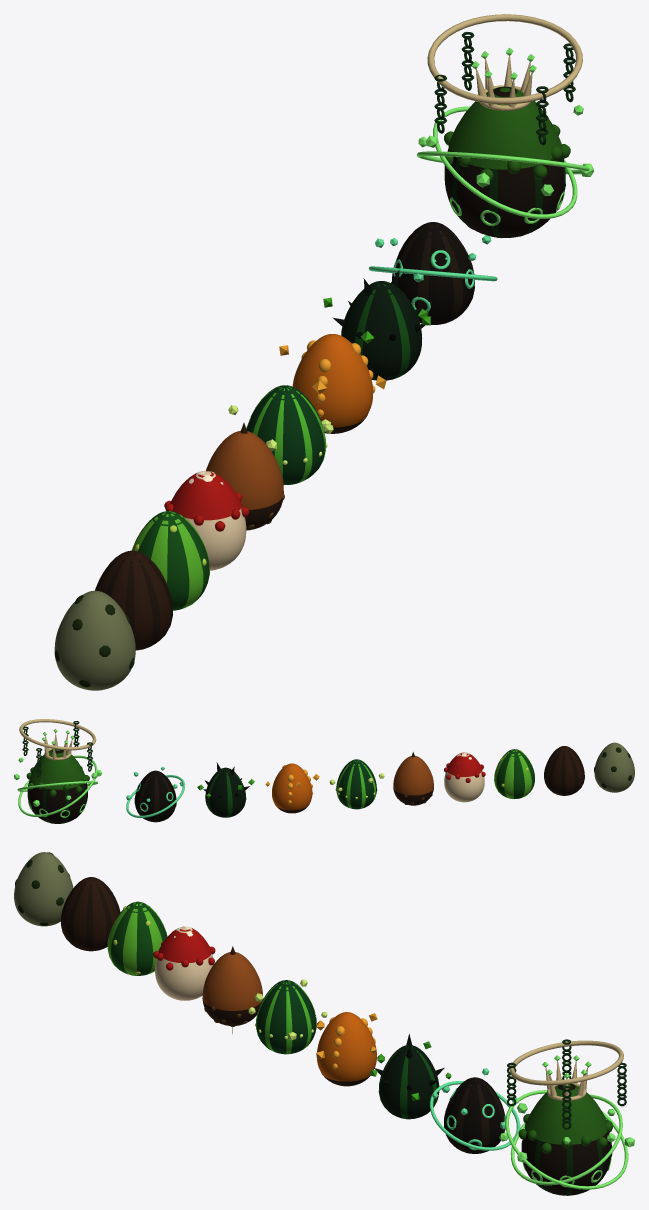
File: eggs_forest_set.obj
3 views of the same model, one above another, from view 1: azimuth 30°, elevation 25°; view 2: azimuth 150°, elevation 25°; view 3: azimuth 270°, elevation 25° (orthographic). The views are drawn at different scales.
Visible parts, largest first — view 1: shell_body, cap, stripe_1, halo_ring, ring_1, ring_2, stripe_7, stripe_8, stripe_6; view 2: shell_body, cap, stripe_5, stripe_4, ring_1, stripe_6, halo_ring, tape, stripe_7, stripe_3, ring_2; view 3: shell_body, cap, stripe_2, stripe_3, ring_1, halo_ring, stripe_4, ring_2, tape, stripe_1.
Boxes of the visible parts, x1=… form: shell_body: x1=54, y1=87, x2=565, y2=690; cap: x1=170, y1=86, x2=561, y2=520; stripe_1: x1=134, y1=165, x2=542, y2=649; halo_ring: x1=427, y1=14, x2=582, y2=104; ring_1: x1=369, y1=151, x2=589, y2=281; ring_2: x1=433, y1=106, x2=577, y2=218; stripe_7: x1=95, y1=158, x2=473, y2=590; stripe_8: x1=105, y1=169, x2=501, y2=596; stripe_6: x1=110, y1=148, x2=448, y2=583; shell_body: x1=27, y1=742, x2=634, y2=823; cap: x1=29, y1=749, x2=482, y2=789; stripe_5: x1=42, y1=748, x2=562, y2=823; stripe_4: x1=28, y1=747, x2=562, y2=819; ring_1: x1=18, y1=755, x2=184, y2=817; stripe_6: x1=62, y1=747, x2=565, y2=823; halo_ring: x1=19, y1=719, x2=96, y2=750; tape: x1=275, y1=787, x2=433, y2=813; stripe_7: x1=76, y1=747, x2=578, y2=818; stripe_3: x1=134, y1=746, x2=562, y2=814; ring_2: x1=17, y1=781, x2=97, y2=791; shell_body: x1=14, y1=852, x2=611, y2=1195; cap: x1=158, y1=926, x2=607, y2=1144; stripe_2: x1=68, y1=879, x2=553, y2=1193; stripe_3: x1=86, y1=879, x2=573, y2=1195; ring_1: x1=429, y1=1081, x2=628, y2=1189; halo_ring: x1=509, y1=1040, x2=623, y2=1085; stripe_4: x1=93, y1=879, x2=602, y2=1189; ring_2: x1=510, y1=1094, x2=622, y2=1185; tape: x1=202, y1=998, x2=370, y2=1086; stripe_1: x1=61, y1=878, x2=529, y2=1176.
Bounding box in the file's own units: 11.69 × 2.71 × 9.67.
